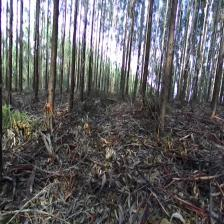trunk: (157, 23, 175, 132), (46, 7, 58, 128), (208, 53, 224, 116), (141, 17, 152, 100), (68, 23, 76, 110), (80, 15, 88, 101), (131, 42, 141, 101), (8, 5, 13, 105), (35, 20, 39, 99)
